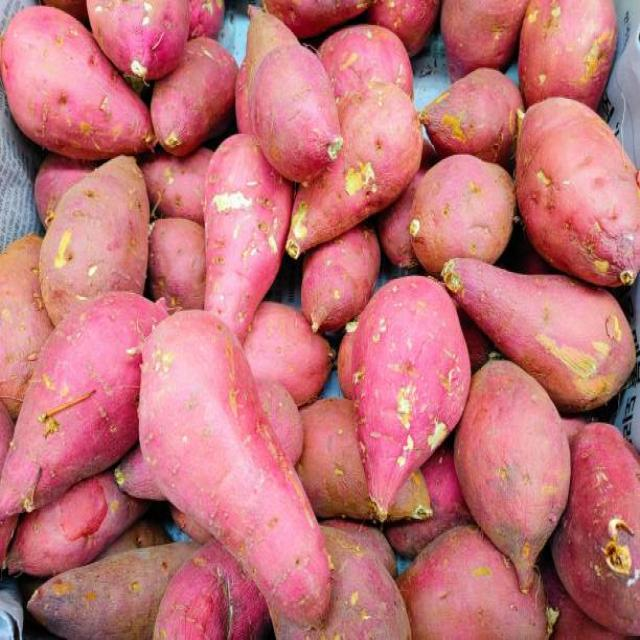Sweet Potato: (136, 309, 268, 536), (353, 275, 462, 517), (26, 297, 136, 510), (457, 364, 564, 578), (518, 97, 640, 274), (245, 14, 339, 174), (246, 466, 332, 640), (44, 154, 149, 296), (2, 8, 100, 153), (206, 173, 280, 326), (422, 68, 522, 154), (347, 84, 421, 200), (94, 0, 190, 78)
